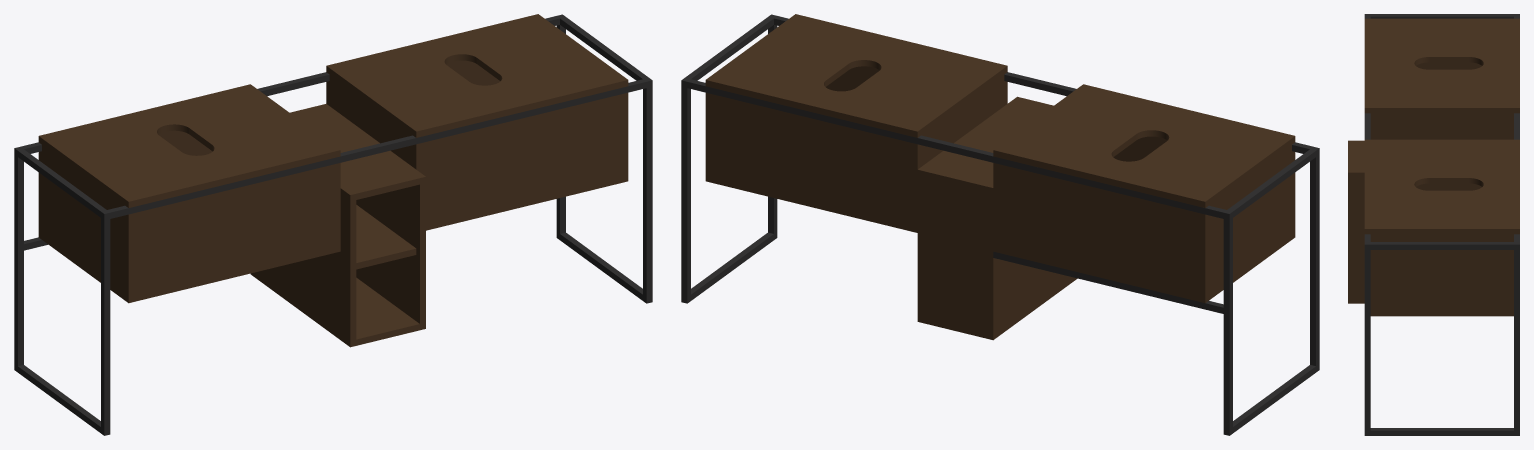
The model's file is Furniture_Other_Simas_Frame-Cabinet-cm-181-with-drawer-FM2.fbx.
3 renders of one model, left to right at view 1: azimuth 30°, elevation 25°; view 2: azimuth 150°, elevation 25°; view 3: azimuth 270°, elevation 25°, orthographic. The views are drawn at different scales.
Parts seen in each view (by area): view 1: Mesh_9_68453883_10ed_46c8_9323_1f6bb498a3f6, Mesh_5_b9f2914c_8d6b_418f_a1a3_33f8c3c08343, Mesh_3_f591fb0b_ef13_4c4f_8f88_a36331f382ed, Mesh_11_abf60625_a850_47d9_9e9c_6c8935c1bd6f, Mesh_7_7aacdef2_5db5_47f6_b3b0_012d99d38409, Mesh_1_f8f8e63e_7bcc_4519_a10e_635aa61386f4, Mesh_13_699d666c_9858_4e11_8063_3fa894dfa60a, Mesh_15_082df06a_3751_4c00_b740_8b5b28920486; view 2: Mesh_13_699d666c_9858_4e11_8063_3fa894dfa60a, Mesh_15_082df06a_3751_4c00_b740_8b5b28920486, Mesh_3_f591fb0b_ef13_4c4f_8f88_a36331f382ed, Mesh_5_b9f2914c_8d6b_418f_a1a3_33f8c3c08343, Mesh_9_68453883_10ed_46c8_9323_1f6bb498a3f6, Mesh_1_f8f8e63e_7bcc_4519_a10e_635aa61386f4, Mesh_11_abf60625_a850_47d9_9e9c_6c8935c1bd6f, Mesh_7_7aacdef2_5db5_47f6_b3b0_012d99d38409; view 3: Mesh_5_b9f2914c_8d6b_418f_a1a3_33f8c3c08343, Mesh_3_f591fb0b_ef13_4c4f_8f88_a36331f382ed, Mesh_15_082df06a_3751_4c00_b740_8b5b28920486, Mesh_1_f8f8e63e_7bcc_4519_a10e_635aa61386f4, Mesh_13_699d666c_9858_4e11_8063_3fa894dfa60a, Mesh_9_68453883_10ed_46c8_9323_1f6bb498a3f6.
Part boxes in pixels (bbox=[...]): Mesh_9_68453883_10ed_46c8_9323_1f6bb498a3f6: bbox=[250, 104, 425, 347]; Mesh_5_b9f2914c_8d6b_418f_a1a3_33f8c3c08343: bbox=[38, 84, 340, 207]; Mesh_3_f591fb0b_ef13_4c4f_8f88_a36331f382ed: bbox=[326, 14, 628, 137]; Mesh_11_abf60625_a850_47d9_9e9c_6c8935c1bd6f: bbox=[125, 163, 340, 303]; Mesh_7_7aacdef2_5db5_47f6_b3b0_012d99d38409: bbox=[413, 92, 628, 230]; Mesh_1_f8f8e63e_7bcc_4519_a10e_635aa61386f4: bbox=[14, 14, 652, 435]; Mesh_13_699d666c_9858_4e11_8063_3fa894dfa60a: bbox=[38, 130, 212, 300]; Mesh_15_082df06a_3751_4c00_b740_8b5b28920486: bbox=[326, 60, 500, 166]; Mesh_13_699d666c_9858_4e11_8063_3fa894dfa60a: bbox=[993, 145, 1291, 303]; Mesh_15_082df06a_3751_4c00_b740_8b5b28920486: bbox=[705, 75, 1004, 232]; Mesh_3_f591fb0b_ef13_4c4f_8f88_a36331f382ed: bbox=[705, 14, 1007, 137]; Mesh_5_b9f2914c_8d6b_418f_a1a3_33f8c3c08343: bbox=[993, 84, 1295, 207]; Mesh_9_68453883_10ed_46c8_9323_1f6bb498a3f6: bbox=[917, 96, 1077, 340]; Mesh_1_f8f8e63e_7bcc_4519_a10e_635aa61386f4: bbox=[681, 14, 1319, 435]; Mesh_11_abf60625_a850_47d9_9e9c_6c8935c1bd6f: bbox=[1113, 136, 1295, 239]; Mesh_7_7aacdef2_5db5_47f6_b3b0_012d99d38409: bbox=[826, 66, 1007, 105]; Mesh_5_b9f2914c_8d6b_418f_a1a3_33f8c3c08343: bbox=[1364, 18, 1519, 113]; Mesh_3_f591fb0b_ef13_4c4f_8f88_a36331f382ed: bbox=[1364, 139, 1519, 234]; Mesh_15_082df06a_3751_4c00_b740_8b5b28920486: bbox=[1370, 183, 1513, 316]; Mesh_1_f8f8e63e_7bcc_4519_a10e_635aa61386f4: bbox=[1364, 14, 1519, 435]; Mesh_13_699d666c_9858_4e11_8063_3fa894dfa60a: bbox=[1370, 62, 1513, 139]; Mesh_9_68453883_10ed_46c8_9323_1f6bb498a3f6: bbox=[1348, 140, 1364, 303].
Bounding box in the file's own units: 1810 × 570 × 720.
